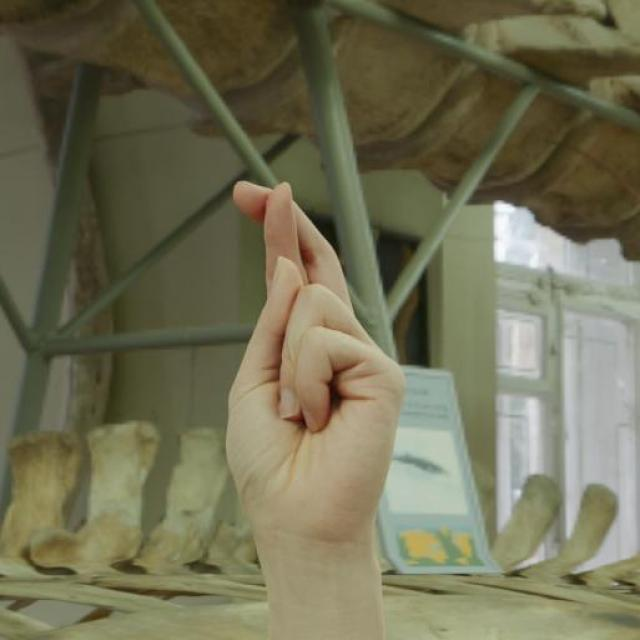R: (221, 173, 410, 547)
